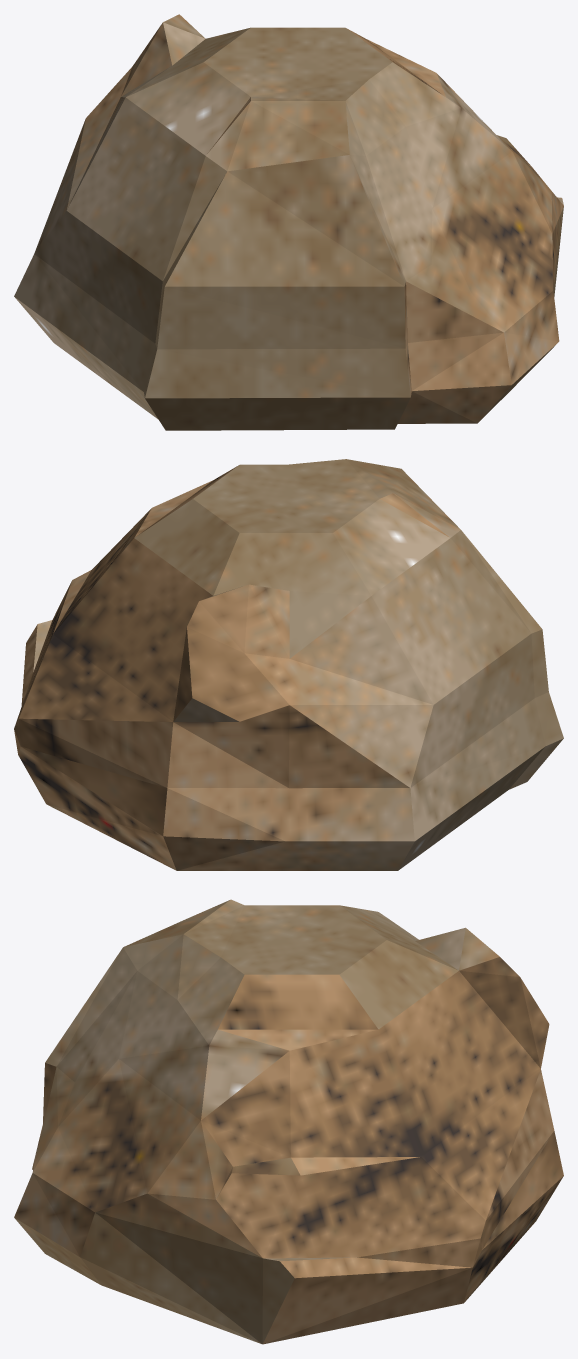
The model's file is Stone_B_Standard.fbx.
3 views of the same model, one above another, from view 1: azimuth 30°, elevation 25°; view 2: azimuth 150°, elevation 25°; view 3: azimuth 270°, elevation 25° (orthographic).
Visible parts, largest first — view 1: Stone_C_Standard; view 2: Stone_C_Standard; view 3: Stone_C_Standard.
Boxes of the visible parts, bbox=[...] form: Stone_C_Standard: bbox=[14, 14, 563, 430]; Stone_C_Standard: bbox=[14, 459, 563, 870]; Stone_C_Standard: bbox=[14, 899, 563, 1344].
Bounding box in the file's own units: 2.44 × 1.4 × 2.42.
